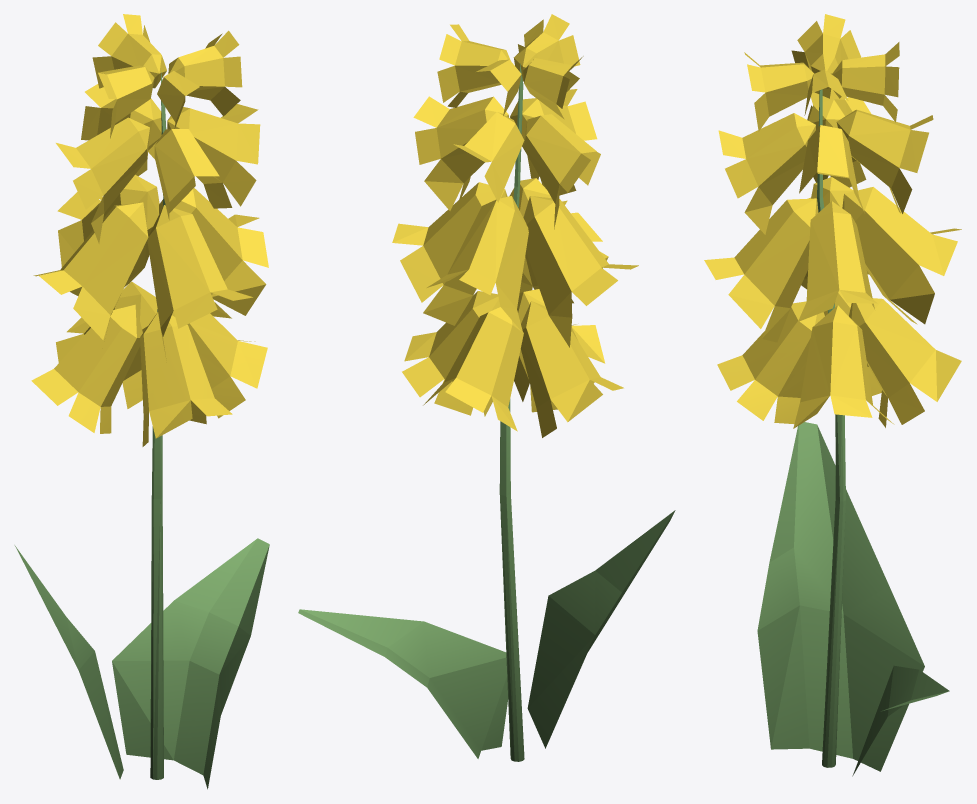
Rendered from m_fsingle.glb.
The picture shows the model from 3 angles, left to right: view 1: azimuth 30°, elevation 25°; view 2: azimuth 150°, elevation 25°; view 3: azimuth 270°, elevation 25°; orthographic projection.
Parts seen in each view (by area): view 1: Flower_4_Single; view 2: Flower_4_Single; view 3: Flower_4_Single.
Boxes of the visible parts, bbox=[...] form: Flower_4_Single: bbox=[14, 14, 269, 789]; Flower_4_Single: bbox=[298, 14, 675, 761]; Flower_4_Single: bbox=[704, 14, 961, 776].
Size of the model in its own units: 1.07 by 2.42 by 0.7729.
